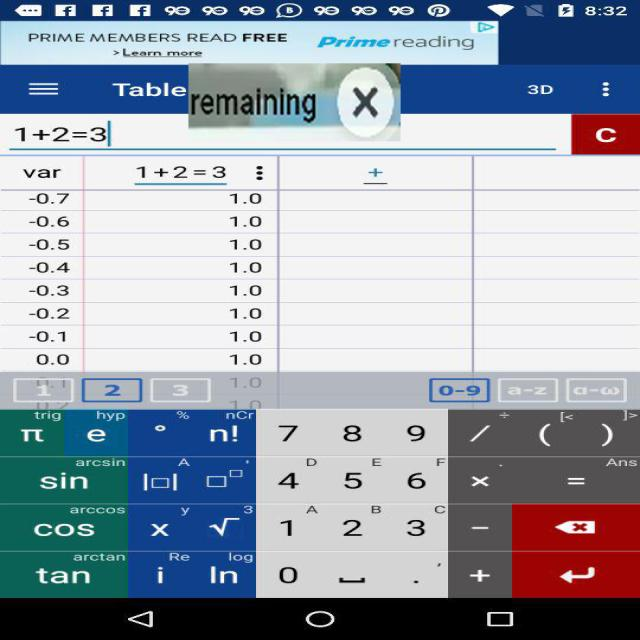misdirection: (188, 64, 400, 142)
